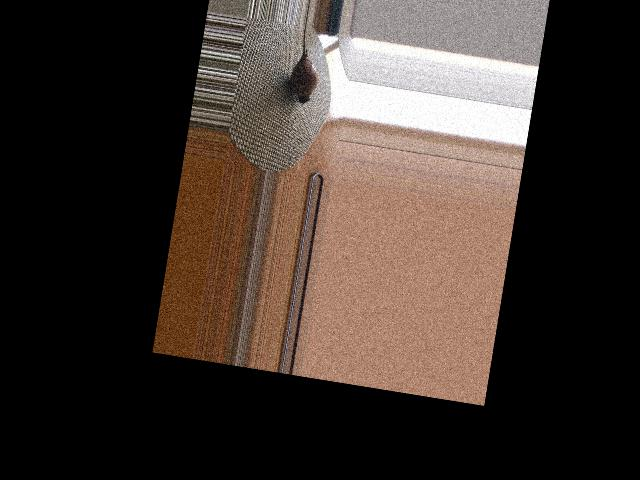beet: (287, 26, 325, 105)
